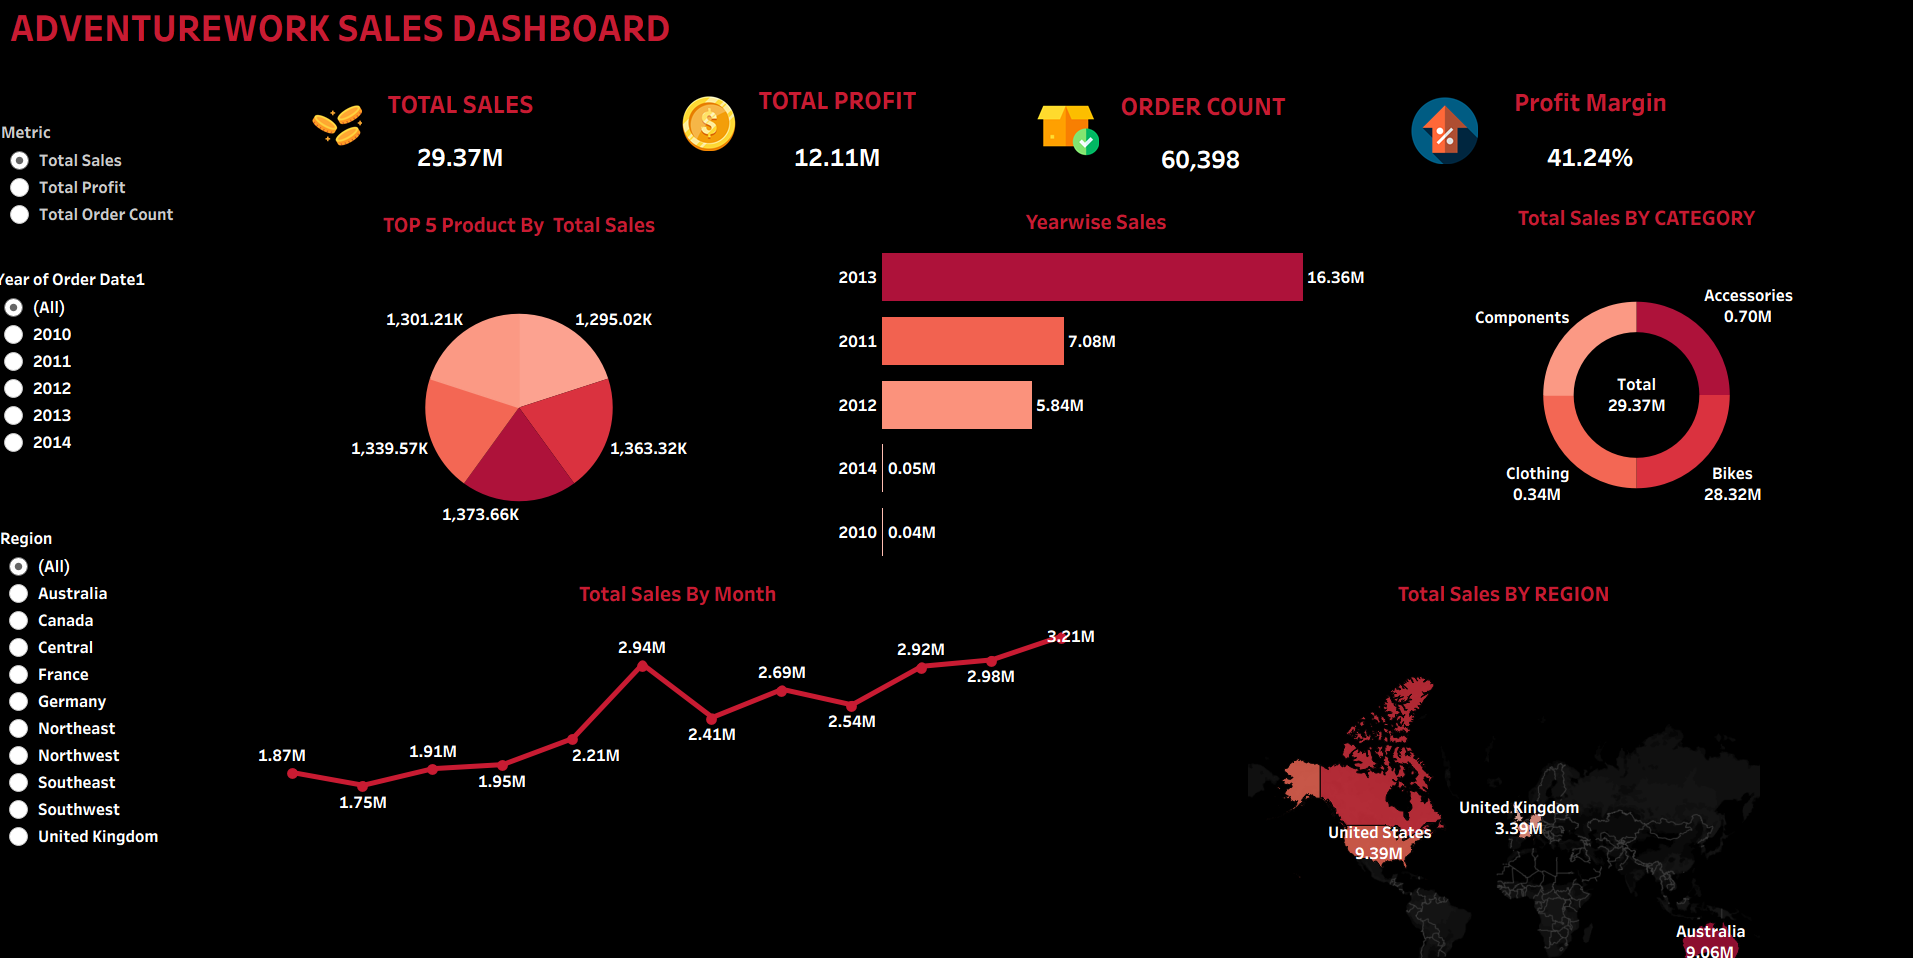

The dashboard page shown, as its layout file describes it:
{"tool":"tableau","page":{"name":"Dashboard ","canvas":[1000,1000],"units":"permille","ordinal":0},"visuals":[{"type":"title","box":[5,9.7,990,69.3]},{"type":"worksheet","title":"KPI 2","mark":"Automatic","box":[349.2,91.7,180.7,111.2]},{"type":"worksheet","title":"KPI 4","mark":"Automatic","box":[735.7,93.8,190.9,105.9]},{"type":"worksheet","title":"KPI 1`","mark":"Automatic","box":[146.1,95.4,194.3,101.5]},{"type":"worksheet","title":"KPI 3","mark":"Automatic","box":[544.2,97.8,168.8,102.7]},{"type":"image","param":"Image/dollar.png","box":[357.8,108.6,28.6,57.6]},{"type":"image","param":"Image/profits.png","box":[733.3,109.9,44.4,68.4]},{"type":"image","param":"Image/received.png","box":[543.1,111.3,32.2,65.7]},{"type":"image","param":"Image/coin.png","box":[162.2,112.6,33.4,50.9]},{"type":"parameter","param":"[Parameters].[Parameter 1]","box":[3.7,134.1,131.4,144.8]},{"type":"worksheet","title":"Sales By Category","mark":"Pie","rows":["Calculation_598415812055052295","Calculation_598415812055068681"],"box":[715.1,213.9,280.9,370.4]},{"type":"worksheet","title":"Yearwise Sales","mark":"Bar","rows":["OrderDate"],"cols":["Calculation_598415812076724236"],"box":[420.8,218.5,306.4,370]},{"type":"worksheet","title":"Top 5 Product","mark":"Pie","box":[141.7,221.2,263.5,370]},{"type":"filter","title":"Yearwise Sales","param":"[federated.1y0om8q0ld7yzm10a4w0u1p8hbtq].[yr:OrderDate:ok]","box":[0.6,285.5,99.6,262.7]},{"type":"filter","title":"Yearwise Sales","param":"[federated.1y0om8q0ld7yzm10a4w0u1p8hbtq].[none:SalesTerritoryRegion:nk]","box":[3.1,550.9,115.8,446.4]},{"type":"worksheet","title":"Sales By Month","mark":"Circle","rows":["Calculation_598415812076724236","Calculation_598415812076724236"],"cols":["OrderDate"],"box":[137.7,600.2,436.9,397.3]}]}

Visuals, with their boxes on the dashboard's canvas, which has no fixed pixel size, in thousandths of its width and height (x1, y1, x2, y2). These are canvas units, not pixel positions in the 1913x958 screenshot, which may show the page scaled, cropped or inside an application window:
title: [x1=5, y1=10, x2=995, y2=79]
"KPI 2" worksheet: [x1=349, y1=92, x2=530, y2=203]
"KPI 4" worksheet: [x1=736, y1=94, x2=927, y2=200]
"KPI 1`" worksheet: [x1=146, y1=95, x2=340, y2=197]
"KPI 3" worksheet: [x1=544, y1=98, x2=713, y2=200]
image: [x1=358, y1=109, x2=386, y2=166]
image: [x1=733, y1=110, x2=778, y2=178]
image: [x1=543, y1=111, x2=575, y2=177]
image: [x1=162, y1=113, x2=196, y2=164]
parameter: [x1=4, y1=134, x2=135, y2=279]
"Sales By Category" worksheet (Pie marks): [x1=715, y1=214, x2=996, y2=584]
"Yearwise Sales" worksheet (Bar marks): [x1=421, y1=218, x2=727, y2=588]
"Top 5 Product" worksheet (Pie marks): [x1=142, y1=221, x2=405, y2=591]
"Yearwise Sales" filter: [x1=1, y1=286, x2=100, y2=548]
"Yearwise Sales" filter: [x1=3, y1=551, x2=119, y2=997]
"Sales By Month" worksheet (Circle marks): [x1=138, y1=600, x2=575, y2=998]
